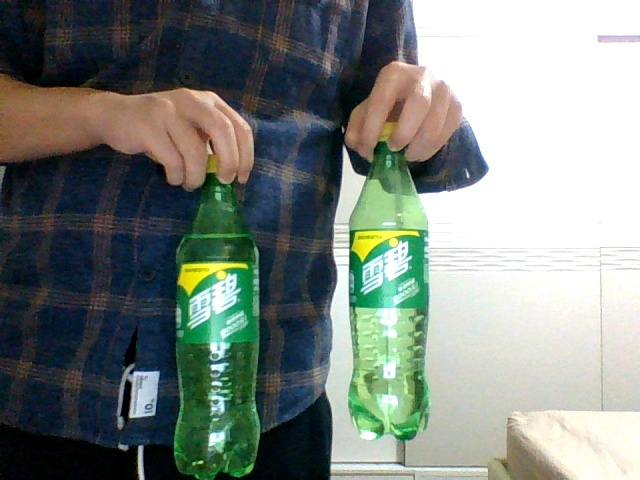Sprite: (172, 154, 260, 477), (348, 121, 430, 439)
